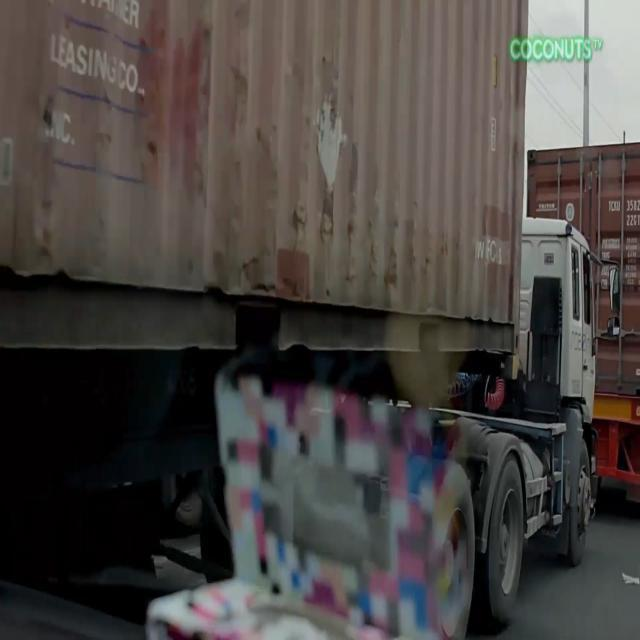truck: (0, 0, 619, 613), (524, 138, 640, 519)
